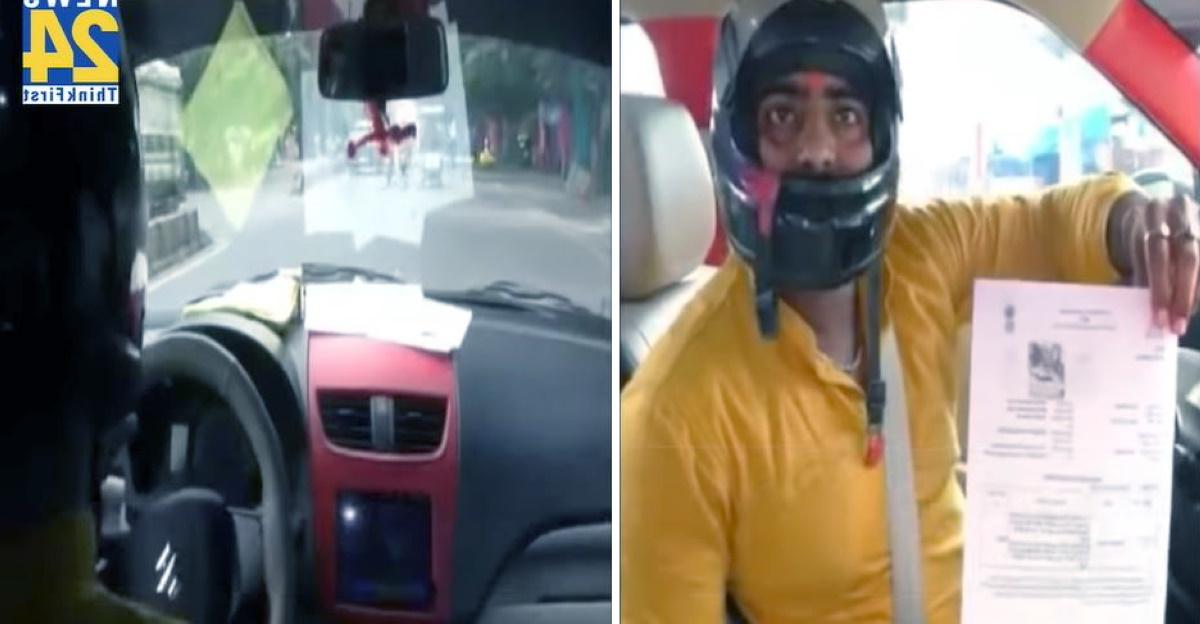Helmet: (710, 0, 900, 295)
